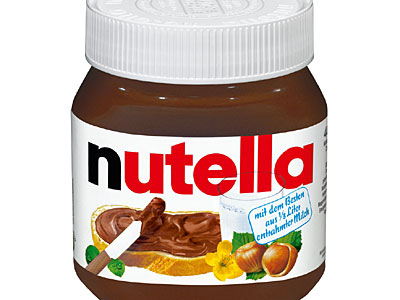nutella: (69, 1, 329, 299)
